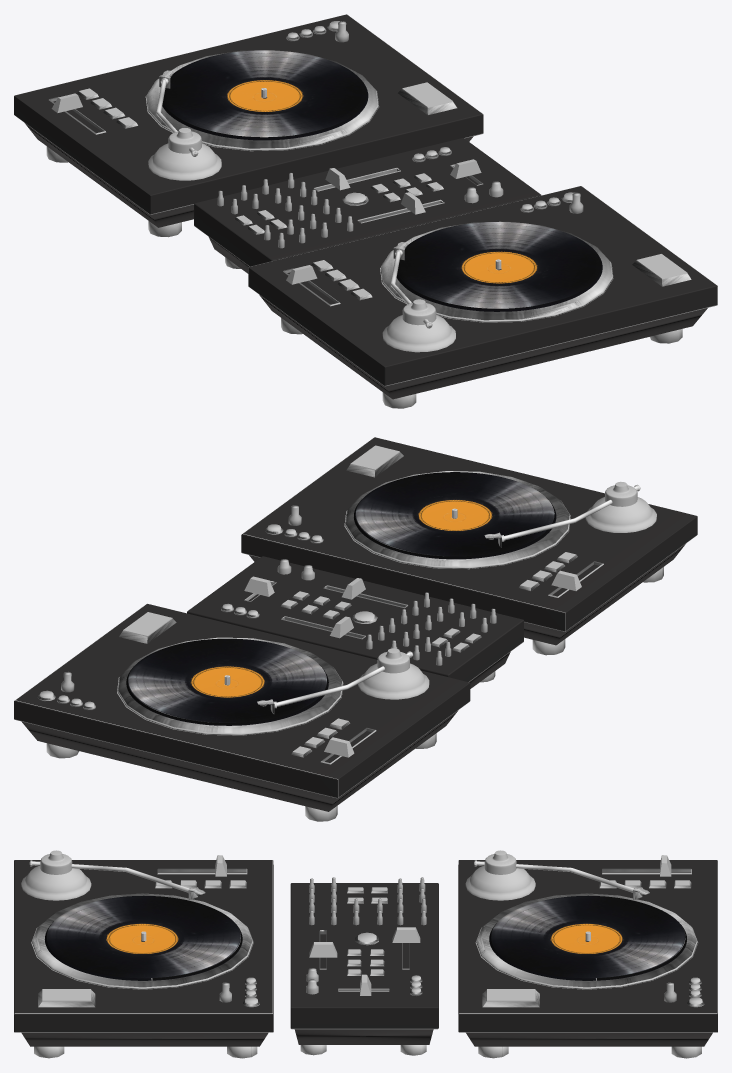
Rendered from dj set 1.fbx.
The picture shows the model from 3 angles, top to bottom: view 1: azimuth 30°, elevation 25°; view 2: azimuth 150°, elevation 25°; view 3: azimuth 270°, elevation 25°; orthographic projection. The views are drawn at different scales.
Visible parts, largest first — view 1: pCube14, pCube36, pCube2, pCylinder110, pCylinder32, pCube20, pCylinder83, pCylinder103, pCylinder88, pCylinder109, pCube40, pCube37 (+1 smaller); view 2: pCube36, pCube14, pCube2, pCylinder110, pCylinder32, pCube40, pCylinder103, pCylinder83, pCylinder109, pCylinder88, pCube20, pCube23 (+3 smaller); view 3: pCube36, pCube14, pCube2, pCylinder32, pCylinder110, pCylinder83, pCylinder103, pCube20, pCube40, pCylinder109, pCylinder88, pCube21 (+8 smaller).
Boxes of the visible parts, bbox=[...] form: pCube14: bbox=[248, 186, 717, 386]; pCube36: bbox=[14, 14, 483, 214]; pCube2: bbox=[194, 138, 541, 266]; pCylinder110: bbox=[162, 50, 368, 140]; pCylinder32: bbox=[396, 221, 602, 311]; pCube20: bbox=[259, 295, 707, 399]; pCylinder83: bbox=[380, 221, 613, 322]; pCylinder103: bbox=[145, 50, 379, 151]; pCylinder88: bbox=[382, 299, 455, 352]; pCylinder109: bbox=[148, 128, 221, 180]; pCube40: bbox=[25, 123, 473, 227]; pCube37: bbox=[398, 82, 456, 114]; pCube36: bbox=[14, 603, 470, 798]; pCube14: bbox=[241, 437, 697, 631]; pCube2: bbox=[187, 556, 523, 682]; pCylinder110: bbox=[126, 638, 328, 725]; pCylinder32: bbox=[354, 472, 556, 559]; pCube40: bbox=[21, 710, 458, 811]; pCylinder103: bbox=[117, 637, 343, 735]; pCylinder83: bbox=[344, 471, 570, 569]; pCylinder109: bbox=[358, 648, 429, 699]; pCylinder88: bbox=[585, 481, 656, 532]; pCube20: bbox=[249, 544, 685, 645]; pCube23: bbox=[346, 445, 403, 477]; pCube36: bbox=[458, 860, 717, 1032]; pCube14: bbox=[14, 860, 273, 1032]; pCube2: bbox=[290, 883, 438, 1029]; pCylinder32: bbox=[44, 895, 242, 980]; pCylinder110: bbox=[489, 895, 686, 980]; pCylinder83: bbox=[31, 893, 253, 989]; pCylinder103: bbox=[475, 893, 698, 989]; pCube20: bbox=[21, 1032, 268, 1046]; pCube40: bbox=[466, 1032, 712, 1046]; pCylinder109: bbox=[465, 850, 535, 900]; pCylinder88: bbox=[21, 850, 91, 900]; pCube21: bbox=[294, 1029, 433, 1044].
Bounding box in the file's own units: 11.09 × 2.77 × 18.28.
